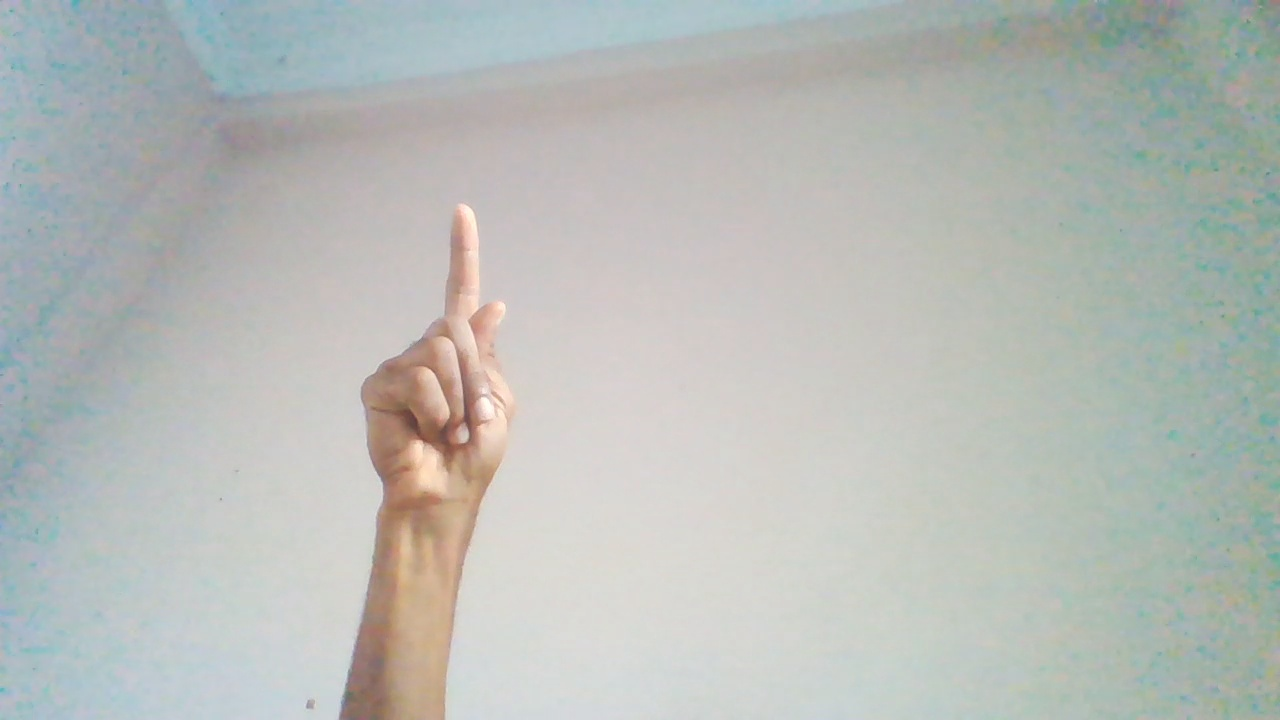ne: (364, 201, 525, 564)
